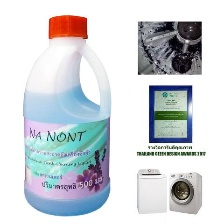cleaning_solution: (21, 9, 112, 217)
